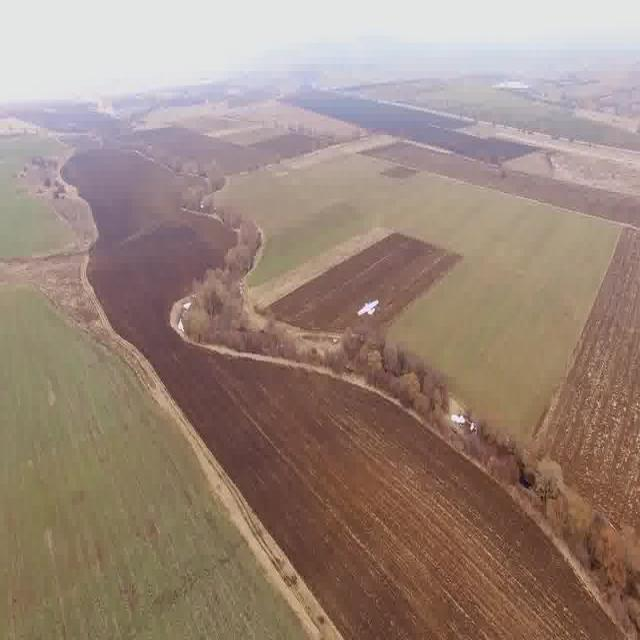iha: (354, 296, 384, 327)
